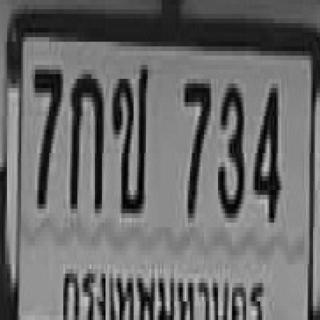A01: (68, 67, 102, 206)
A10: (111, 58, 146, 206)
N03: (216, 76, 243, 211)
N04: (251, 79, 278, 218)
N07: (32, 63, 62, 202), (183, 76, 209, 211)
P04: (56, 255, 271, 320)
